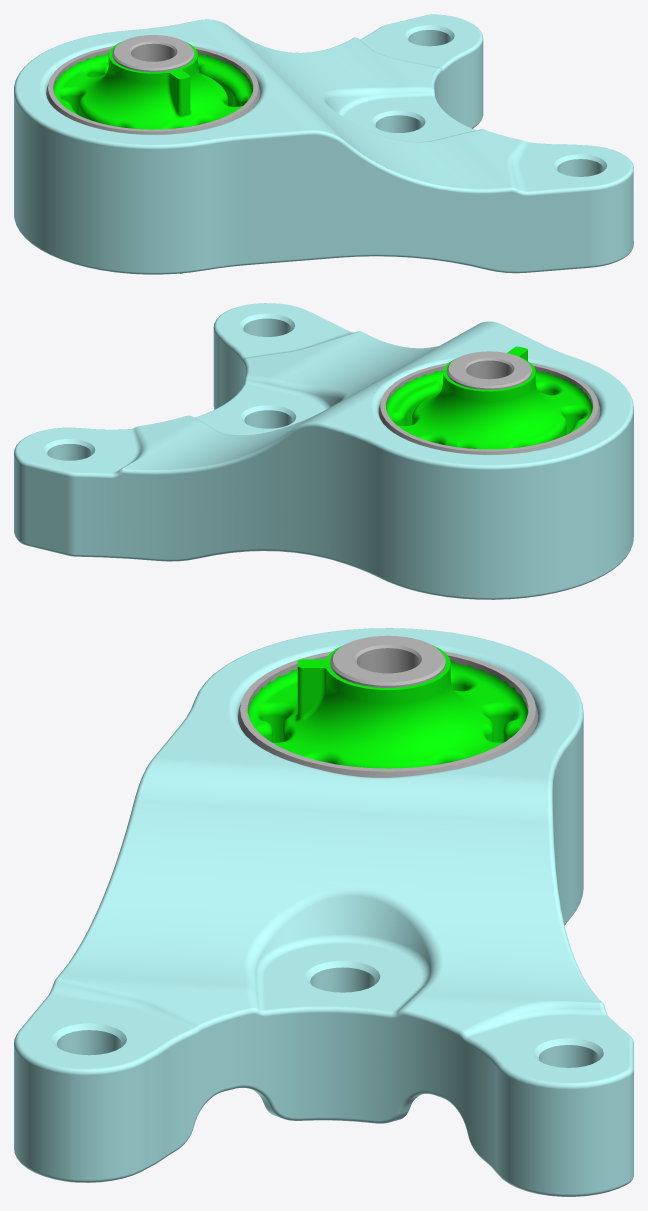
3 renders of one model, top to bottom at view 1: azimuth 30°, elevation 25°; view 2: azimuth 150°, elevation 25°; view 3: azimuth 270°, elevation 25°, orthographic. The views are drawn at different scales.
Parts seen in each view (by area): view 1: TA30-1001700C.SLDPRT; view 2: TA30-1001700C.SLDPRT; view 3: TA30-1001700C.SLDPRT.
Boxes of the visible parts, bbox=[...] form: TA30-1001700C.SLDPRT: bbox=[14, 14, 633, 274]; TA30-1001700C.SLDPRT: bbox=[14, 303, 633, 599]; TA30-1001700C.SLDPRT: bbox=[14, 628, 633, 1196].
Bounding box in the file's own units: 0.164 × 0.062 × 0.1235.
